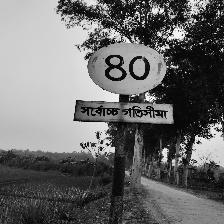Speed-limit: (75, 42, 172, 126)
